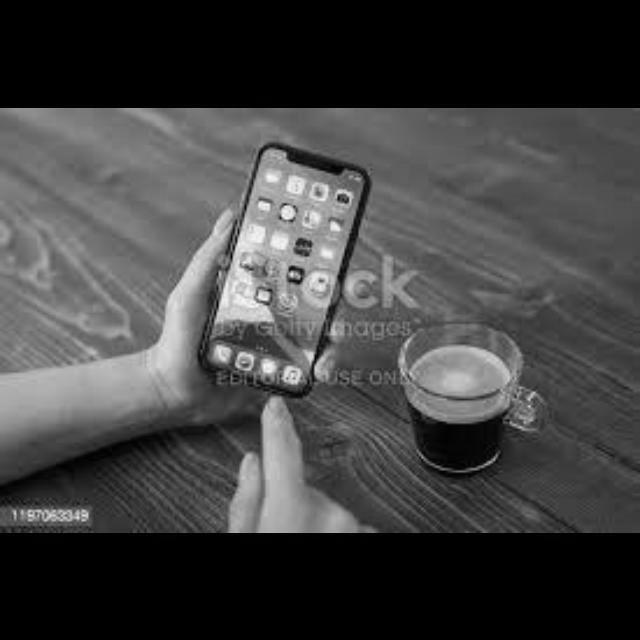fake: (192, 136, 411, 432)
